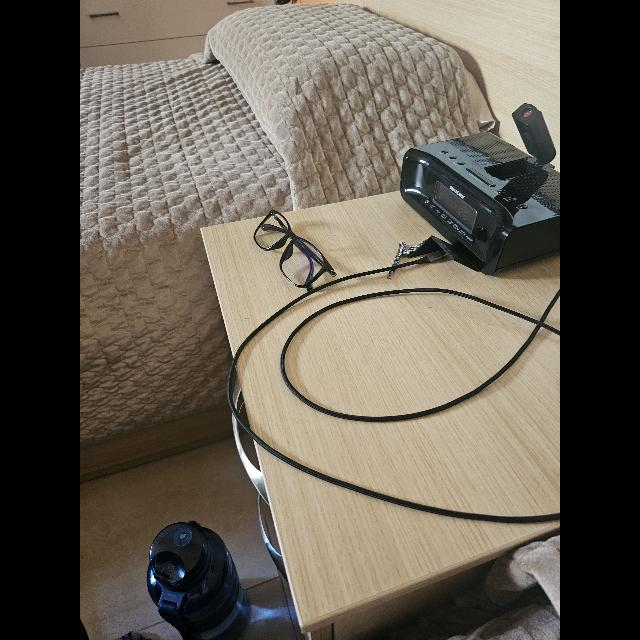glasses: (254, 210, 336, 290)
